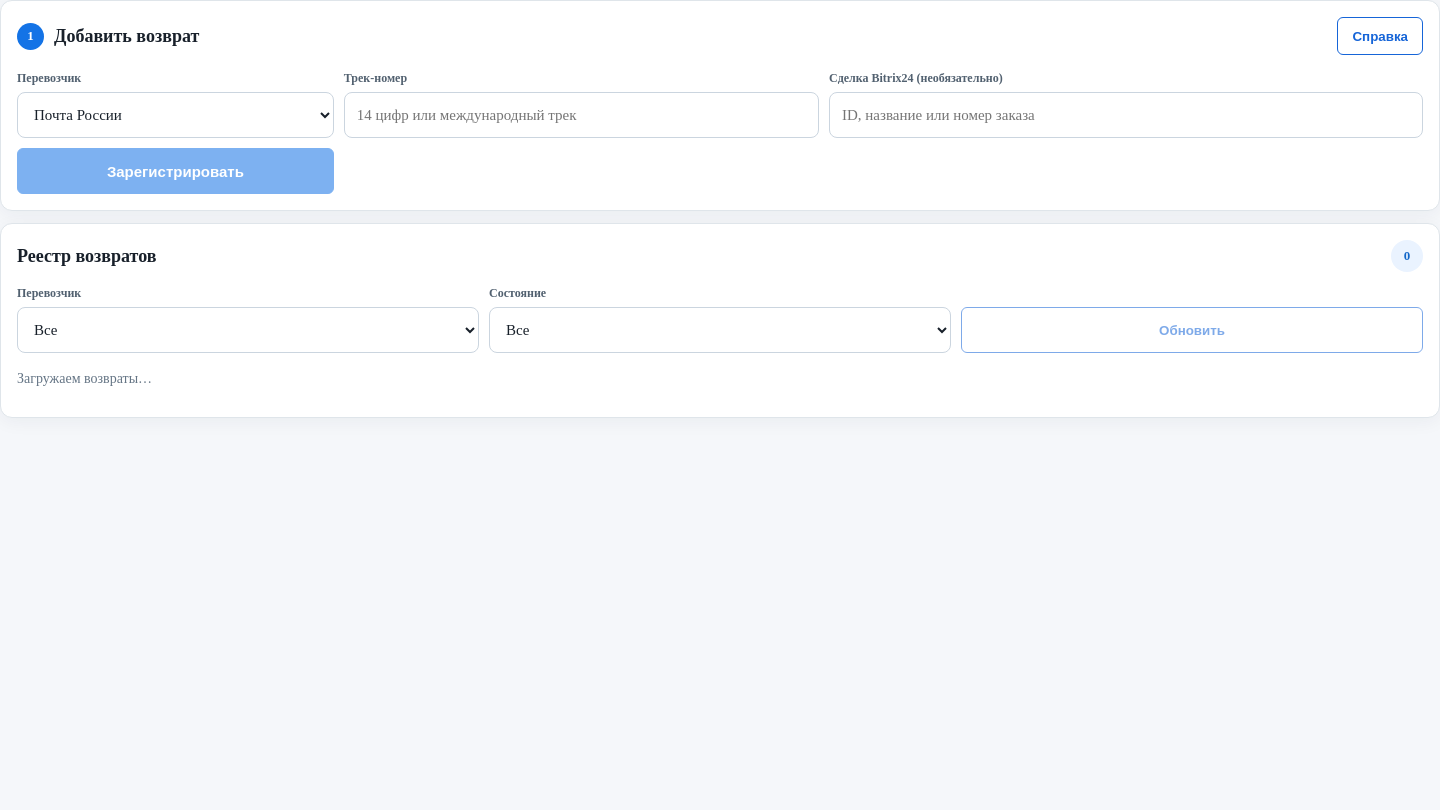
Test: CustomerReturnsWorkspace › убирает полученный возврат из активного фильтра «Можно забирать»
The image size is (1440, 810).
Select "Можно забирать" in the dropdown named "Фильтр по состоянию" at (720, 330), box 489,307 -> 951,353
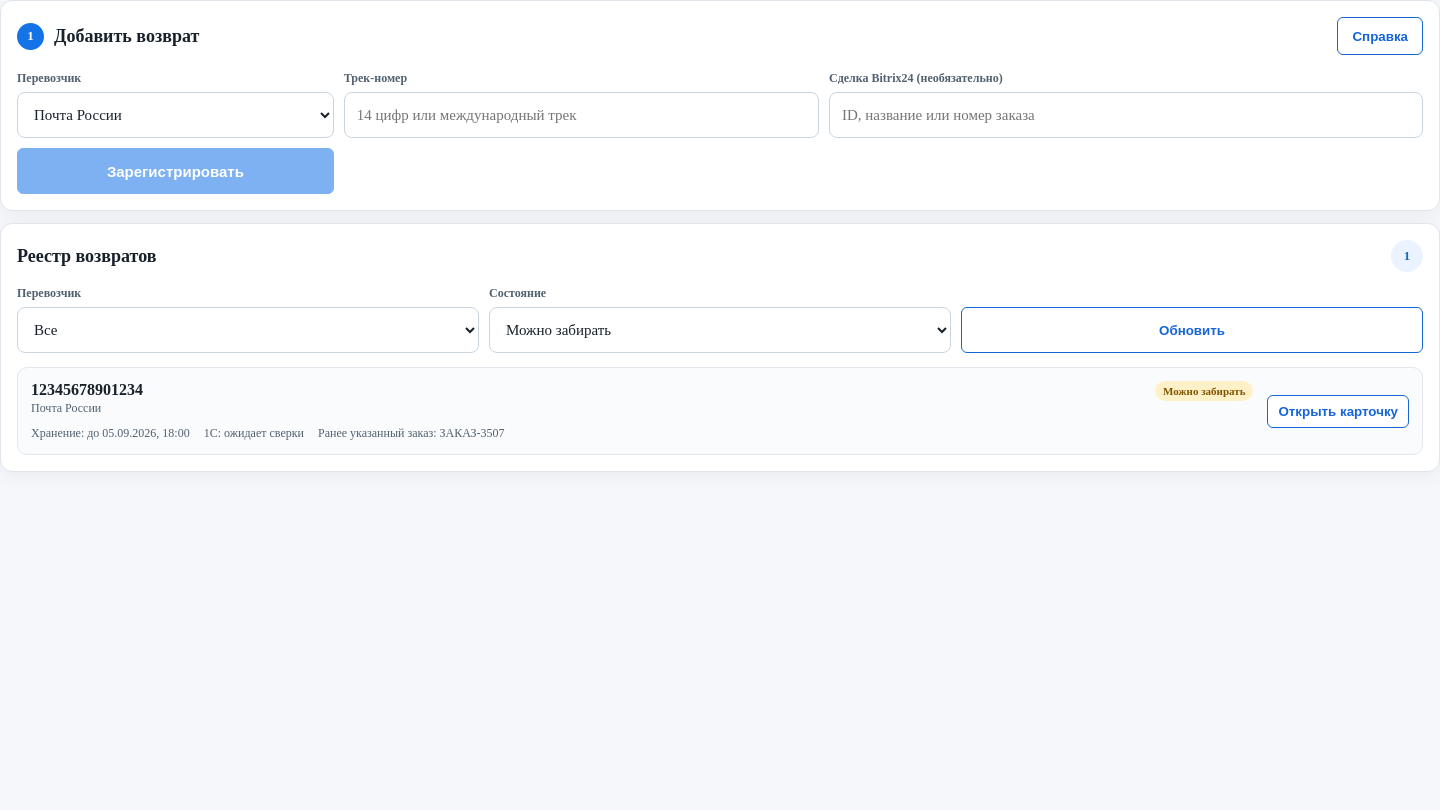
Click the button "Открыть карточку" at (1338, 411), box 1268,394 -> 1409,428
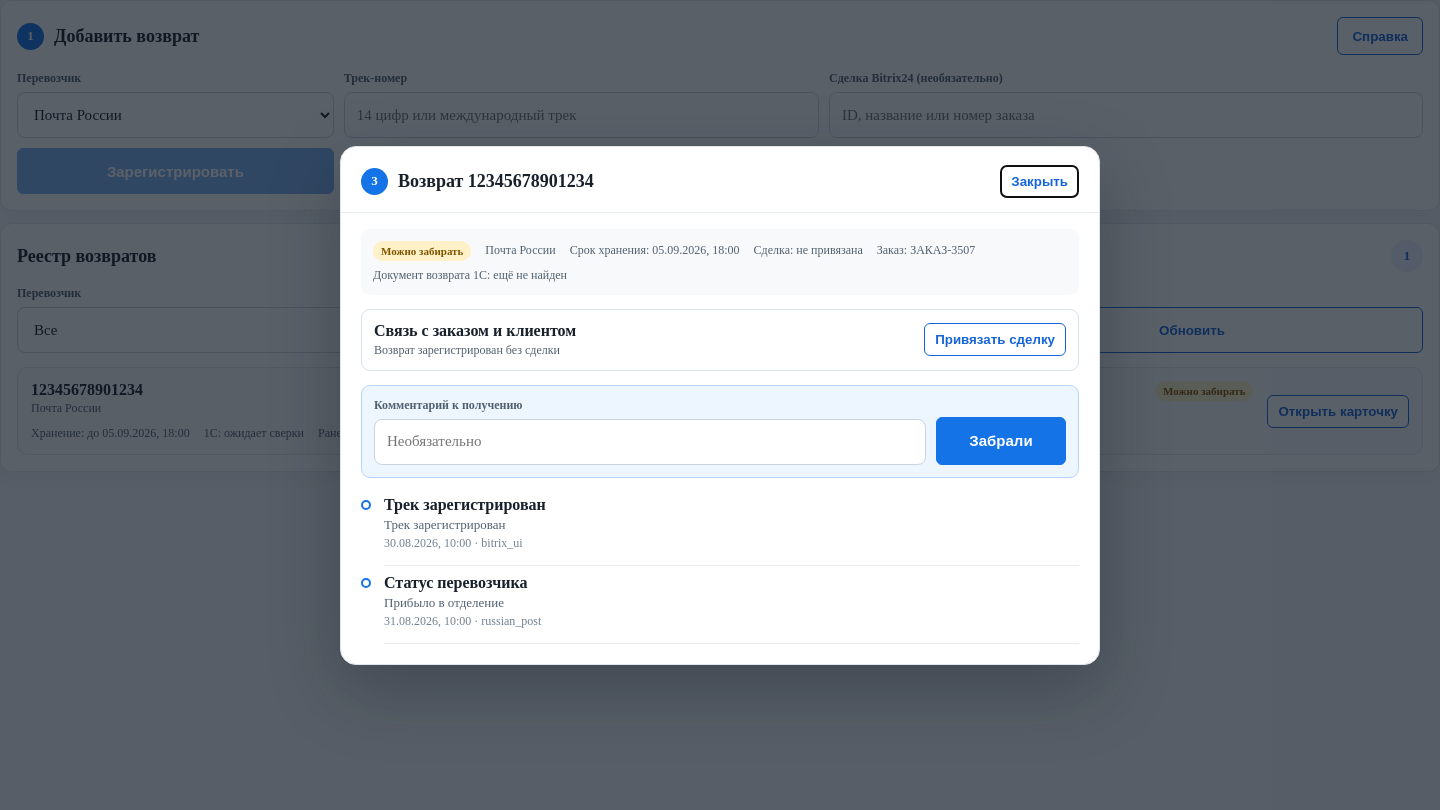
Expected: the button "Забрали" is shown
Click the button "Забрали" at (1001, 440), box 936,416 -> 1066,464
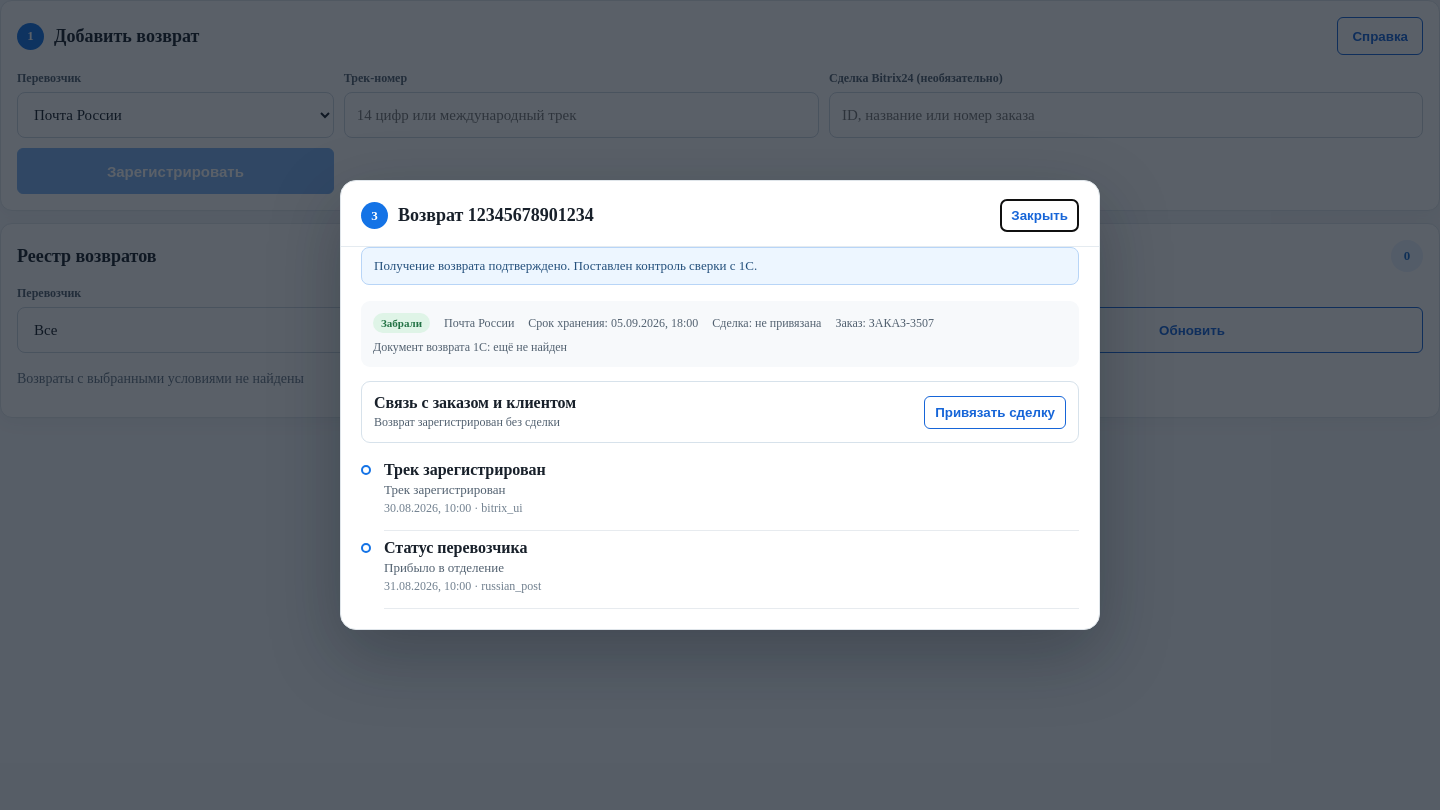
Expected: the text "Получение возврата подтверждено. Поставлен контроль сверки с 1С." is shown, 361,247 -> 1079,285
Expected: the text named "Возвратов в списке: 0" is shown, 1391,240 -> 1423,272
Expected: the text "Возвраты с выбранными условиями не найдены" is shown, 17,371 -> 304,386
